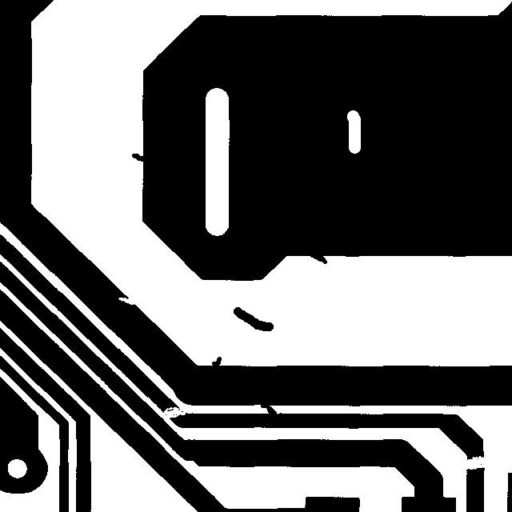copper: (226, 299, 281, 338)
mousebite: (110, 290, 143, 312)
open: (450, 448, 497, 477), (155, 399, 193, 428)
pin-hole: (339, 102, 368, 161)
short: (251, 393, 284, 424)
spur: (302, 243, 334, 271), (124, 146, 155, 169), (204, 349, 229, 374)
